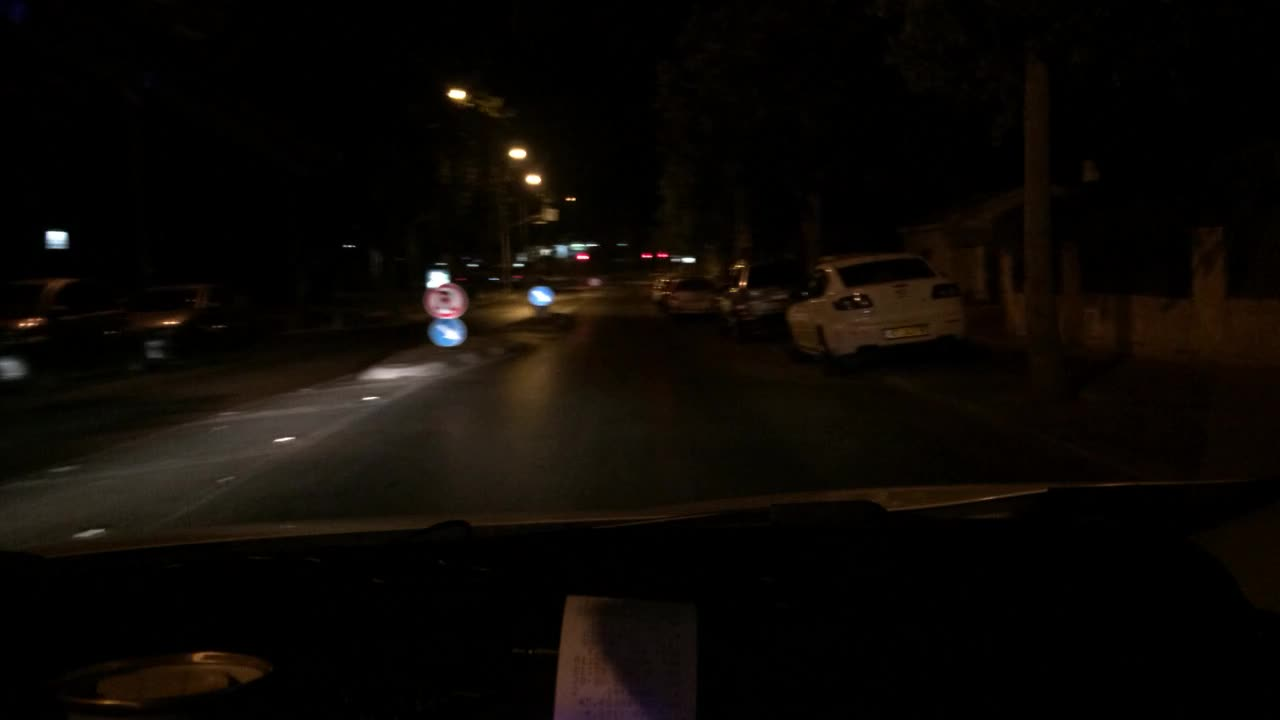car: (789, 255, 968, 369), (2, 275, 140, 399), (111, 277, 247, 361), (721, 256, 817, 342), (655, 261, 725, 319)
traffic sign: (425, 284, 464, 322), (425, 322, 467, 347), (527, 286, 554, 308)
